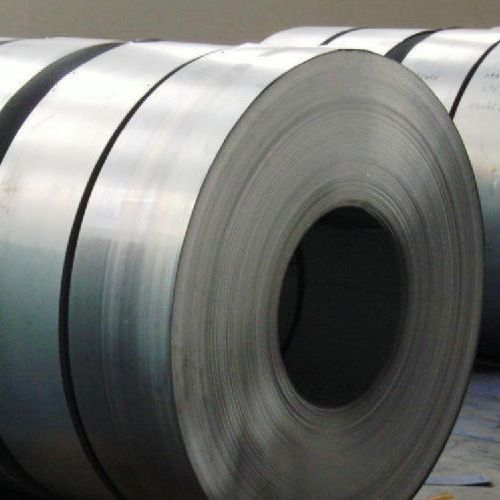steel-coil: (8, 54, 486, 419), (24, 56, 487, 430), (54, 54, 486, 419)
